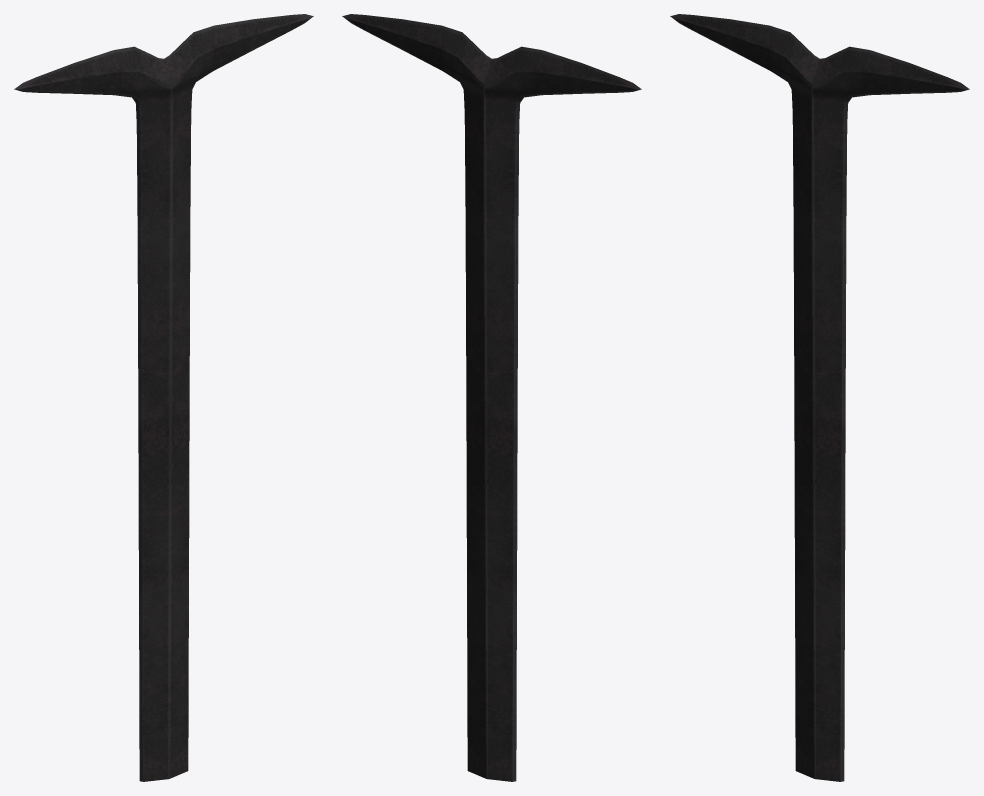
Rendered from wm_isengard_berserker_sword_a01_blade.fbx.
The picture shows the model from 3 angles, left to right: view 1: azimuth 30°, elevation 25°; view 2: azimuth 150°, elevation 25°; view 3: azimuth 330°, elevation 25°; orthographic projection.
Visible parts, largest first — view 1: wm_isengard_berserker_sword_a01_blade; view 2: wm_isengard_berserker_sword_a01_blade; view 3: wm_isengard_berserker_sword_a01_blade.
Part boxes in pixels (x1,y1,x2,y2): wm_isengard_berserker_sword_a01_blade: (14,14,313,781); wm_isengard_berserker_sword_a01_blade: (342,14,641,781); wm_isengard_berserker_sword_a01_blade: (670,14,969,781).
Bounding box in the file's own units: 0.4239 × 0.0388 × 0.9958.
1 material, 1 textured.
